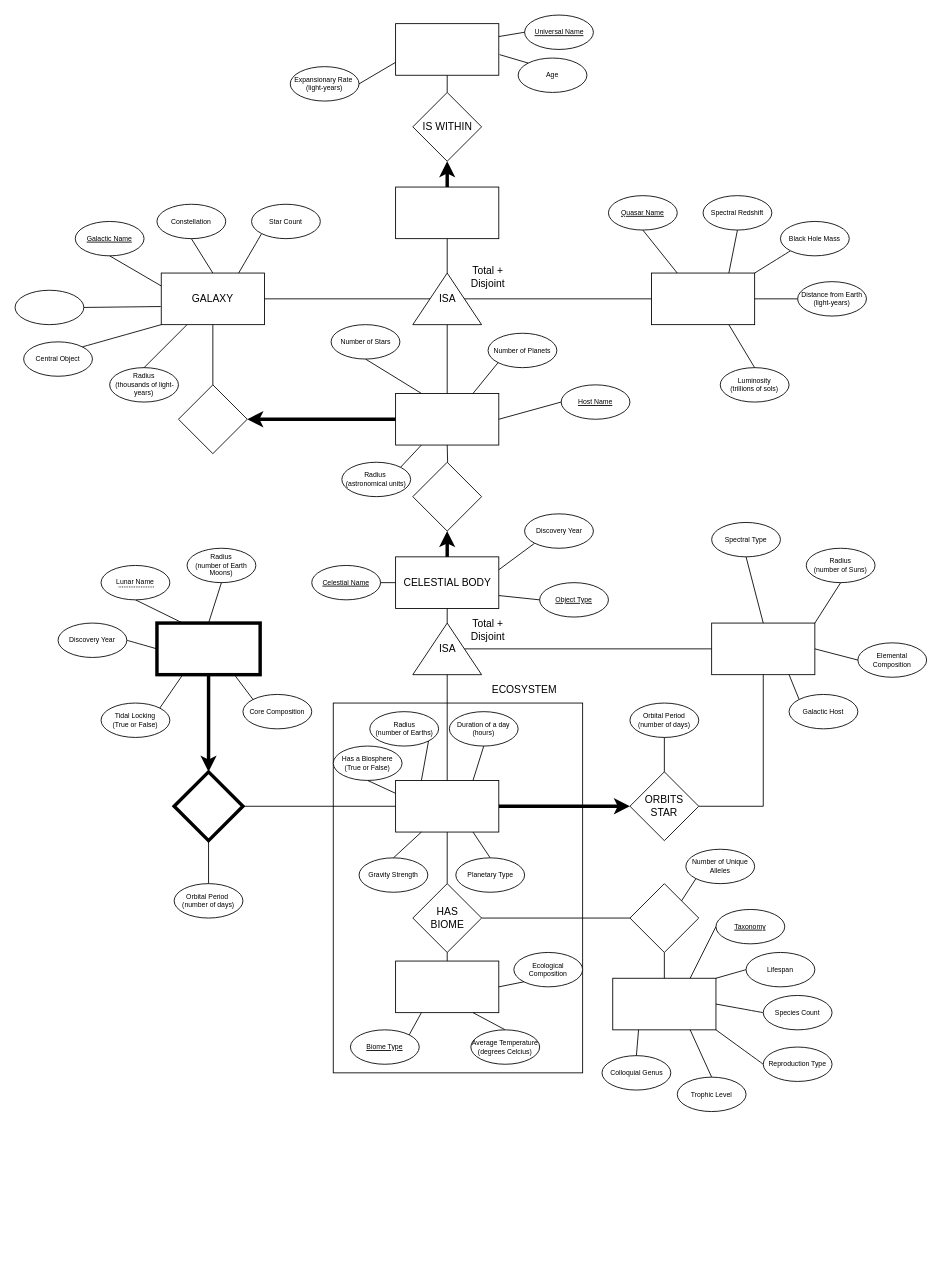
Image size: 943x1275. Some labels were removed from this diagram. Here are the shapes that lost their labels. From the top down, the box of each, then its label:
(395, 23, 499, 75): UNIVERSE
(395, 186, 499, 239): ASTRONOMICAL OBJECT
(14, 289, 84, 325): Variation Type
(651, 272, 755, 325): QUASAR
(178, 384, 247, 454): EXISTS INSIDE
(395, 393, 499, 445): PLANETARY SYSTEM
(412, 461, 482, 531): MEMBER OF
(155, 621, 261, 676): MOON
(711, 622, 815, 675): STAR
(172, 770, 244, 842): ORBITS PLANET
(395, 780, 499, 832): EXOPLANET
(629, 883, 699, 952): HAS KINGDOM
(395, 960, 499, 1013): BIOME
(612, 977, 716, 1030): KINGDOM
